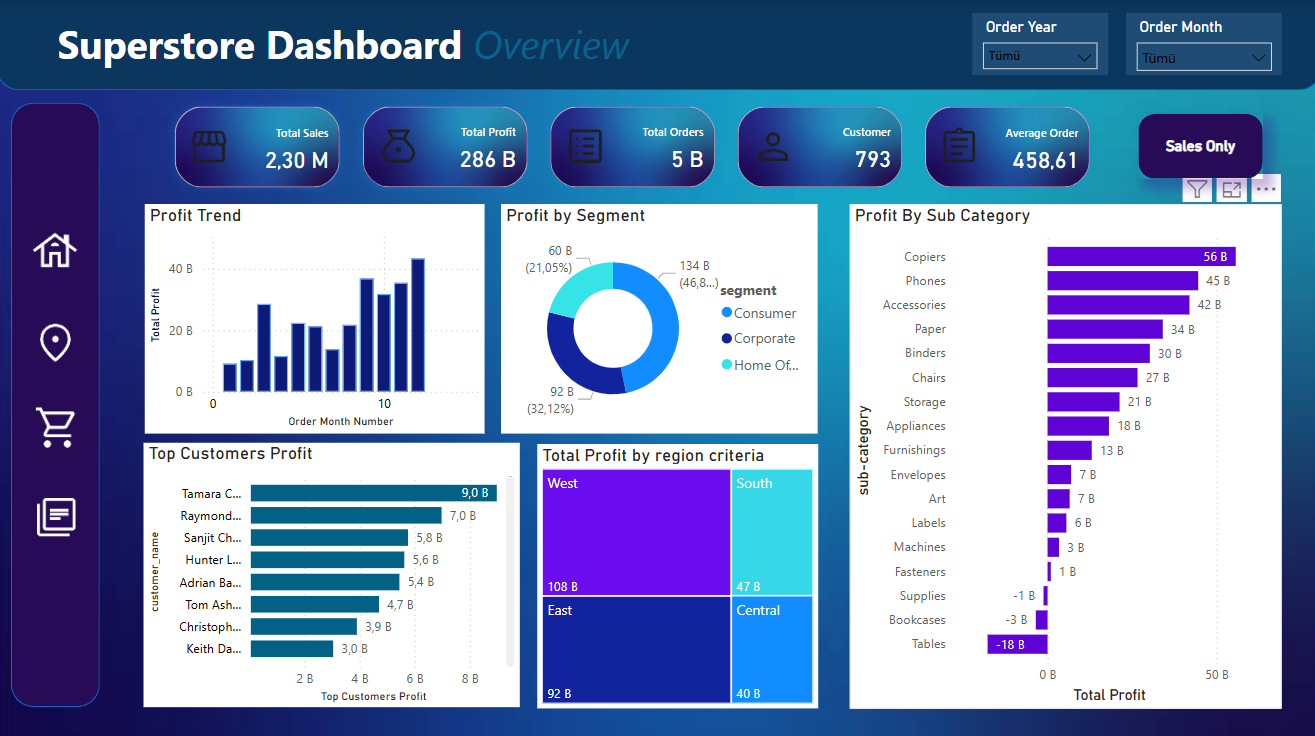

Layout of this report page (visuals, bound fields, positions):
{"tool":"powerbi","page":{"name":"Profitt Only","canvas":[1280,720],"ordinal":0},"visuals":[{"type":"shape","box":[14.7,100.3,85.6,583.3],"z":0},{"type":"shape","box":[0,0,1280.3,88],"z":1000},{"type":"cardVisual","fields":{"Data":["Superstore.Total Sales","Superstore.Total Profit","Superstore.Total Orders","Superstore.Customer","Superstore.Average Order Value"]},"box":[156.5,88,917.1,110],"z":2000},{"type":"lineStackedColumnComboChart","title":"Profit Trend","fields":{"Category":["Superstore.Order Month Number"],"Y":["Superstore.Total Profit"]},"box":[143.1,198.3,327.7,221.3],"z":3000},{"type":"donutChart","title":"Profit by Segment","fields":{"Category":["Superstore.segment"],"Y":["Superstore.Total Profit"]},"box":[487.9,198.1,305.7,221.3],"z":4000},{"type":"barChart","title":"Top Customers Profit","fields":{"Y":["Superstore.Top Customers Profit"],"Category":["Superstore.customer_name"]},"box":[142.3,428.5,363.2,255.6],"z":5000},{"type":"treemap","title":"Total Profit by region criteria","fields":{"Group":["Superstore.region"],"Values":["Superstore.Total Profit"]},"box":[522.1,429.2,271.5,255.6],"z":6000},{"type":"barChart","title":"Profit By Sub Category","fields":{"Y":["Superstore.Total Profit"],"Category":["Superstore.sub-category"]},"box":[824.2,198.1,417,486.7],"z":7000},{"type":"slicer","fields":{"Values":["Superstore.Order Year"]},"box":[942.8,13.4,130.8,59.9],"z":8000},{"type":"slicer","fields":{"Values":["Superstore.Order Month"]},"box":[1090.8,13.4,150.4,59.9],"z":9000},{"type":"textbox","box":[53.8,13.4,770.4,59.9],"z":10000},{"type":"actionButton","title":"nnn","box":[1103,111.3,119.8,62.4],"z":11000},{"type":"image","box":[29.4,211.6,56.2,63.6],"z":12000},{"type":"image","box":[29.4,305.7,57.5,53.8],"z":13000},{"type":"image","box":[31.8,386.4,55,55],"z":14000},{"type":"image","box":[31.8,472,53.8,56.2],"z":15000}]}

Visuals, with their boxes in screenshot pixels (x1, y1, x2, y2), scaled from the page's 1280x720 canvas onto the 1315x736 screenshot:
shape: bbox(15, 103, 103, 699)
shape: bbox(0, 0, 1314, 90)
cardVisual - Superstore.Total Sales x Superstore.Total Profit: bbox(161, 90, 1103, 202)
"Profit Trend" lineStackedColumnComboChart: bbox(147, 203, 484, 429)
"Profit by Segment" donutChart: bbox(501, 203, 815, 429)
"Top Customers Profit" barChart: bbox(146, 438, 519, 699)
"Total Profit by region criteria" treemap: bbox(536, 439, 815, 700)
"Profit By Sub Category" barChart: bbox(847, 203, 1275, 700)
slicer - Superstore.Order Year: bbox(969, 14, 1103, 75)
slicer - Superstore.Order Month: bbox(1121, 14, 1275, 75)
textbox: bbox(55, 14, 847, 75)
"nnn" actionButton: bbox(1133, 114, 1256, 178)
image: bbox(30, 216, 88, 281)
image: bbox(30, 312, 89, 367)
image: bbox(33, 395, 89, 451)
image: bbox(33, 482, 88, 540)
